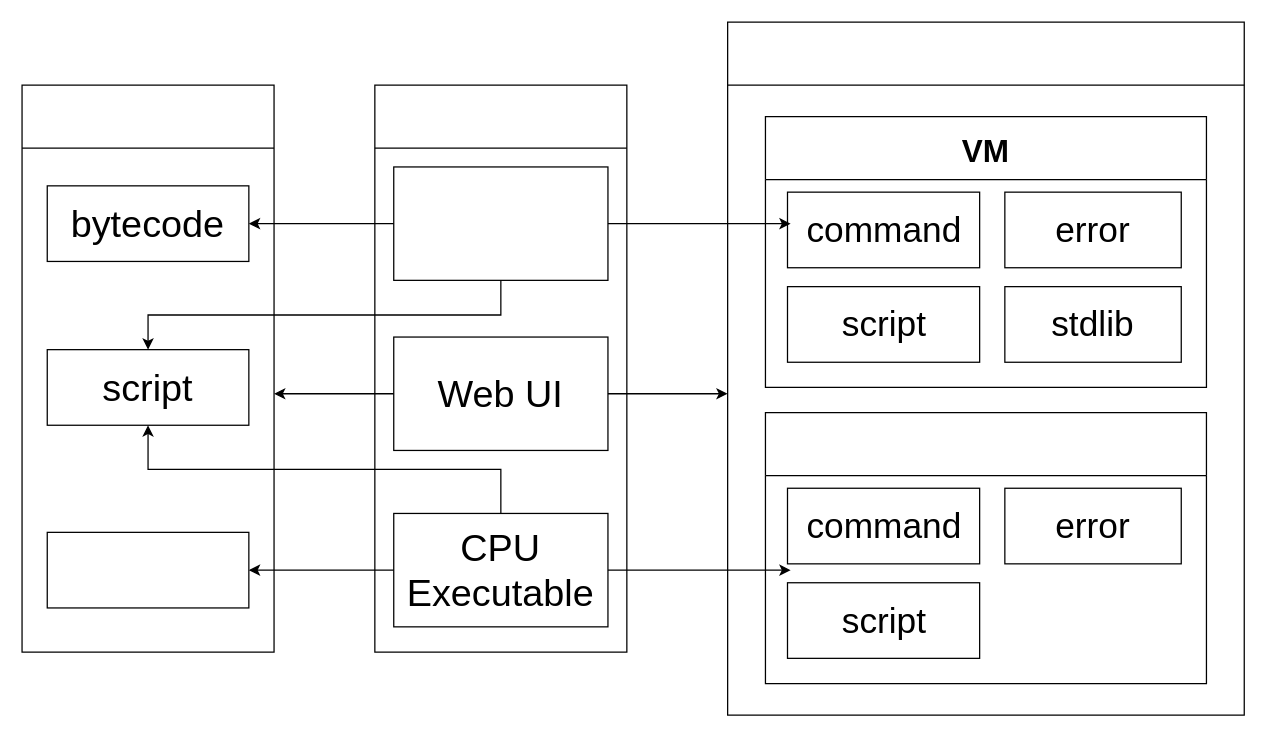
The diagram is 1266 pixels wide and 737 high, and some of its shapes have lost their labels. The shapes that lost their labels are listed below. From the top down, each one's box as (x1, y1, x2, y2) in pixels, then its label:
(392, 166, 608, 280): VM Executable
(21, 84, 274, 652): Parsing
(374, 84, 627, 652): Interfaces
(726, 21, 1244, 715): Simulators
(764, 411, 1206, 684): CPU
(46, 531, 249, 608): assembly
